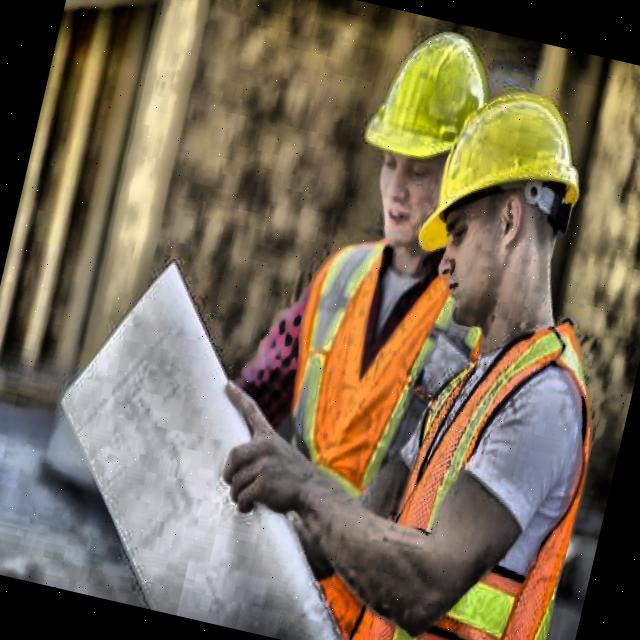helmet: (392, 44, 600, 338), (337, 15, 526, 294)
